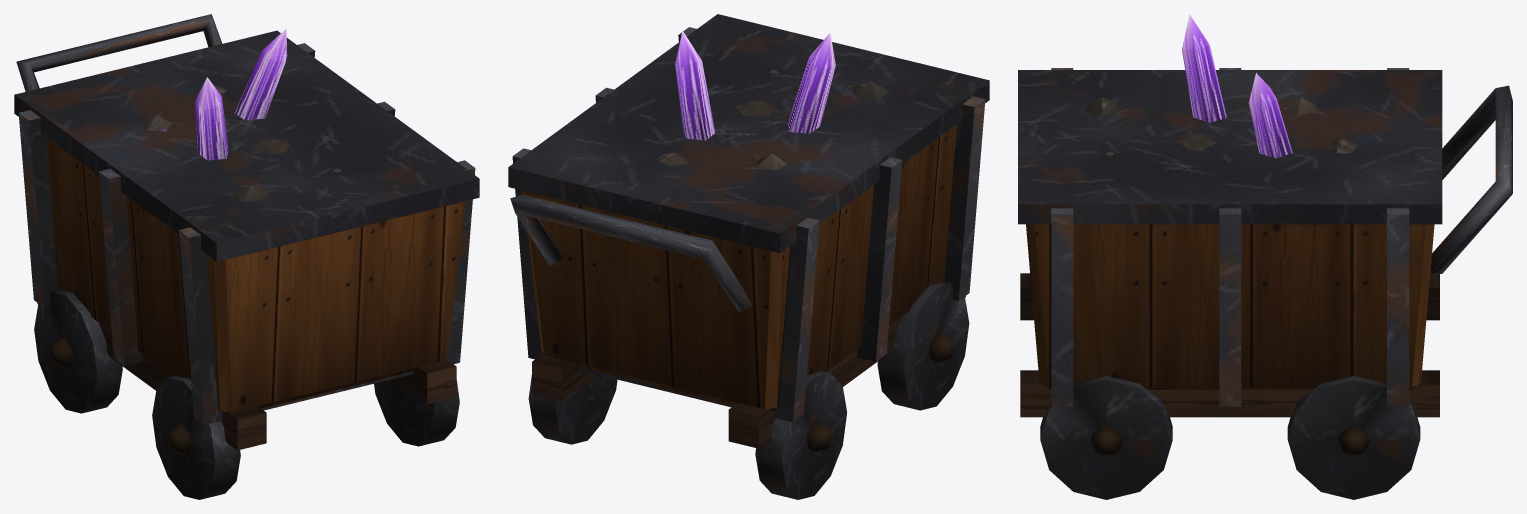
Rendered from nidavellir_mine_cart.glb.
3 views of the same model, side by side, from view 1: azimuth 30°, elevation 25°; view 2: azimuth 150°, elevation 25°; view 3: azimuth 270°, elevation 25° (orthographic). The views are drawn at different scales.
Visible parts, largest first — view 1: nidavellir_mine_cart; view 2: nidavellir_mine_cart; view 3: nidavellir_mine_cart.
Boxes of the visible parts, <box> form: nidavellir_mine_cart: <box>14,14,479,499</box>; nidavellir_mine_cart: <box>508,14,989,499</box>; nidavellir_mine_cart: <box>1018,14,1512,499</box>.
Size of the model in its own units: 0.784 by 0.9817 by 1.12.
5 materials, 5 textured.
